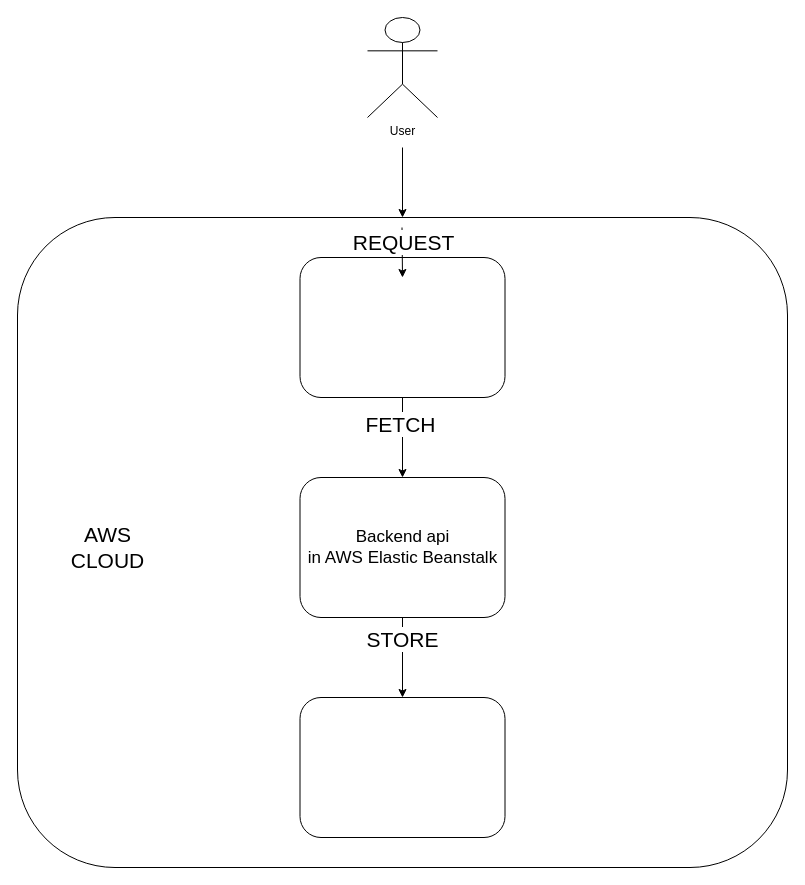
Some shapes in this 805 by 885 pixel diagram are drawn without their labels. The shapes that lost their labels are listed below. From the top down, each one's centre as x and y in pixels, then its label:
At pixel 402 327: "Angular app in AWS bucket".
At pixel 402 767: "Database in AWS RDS".
